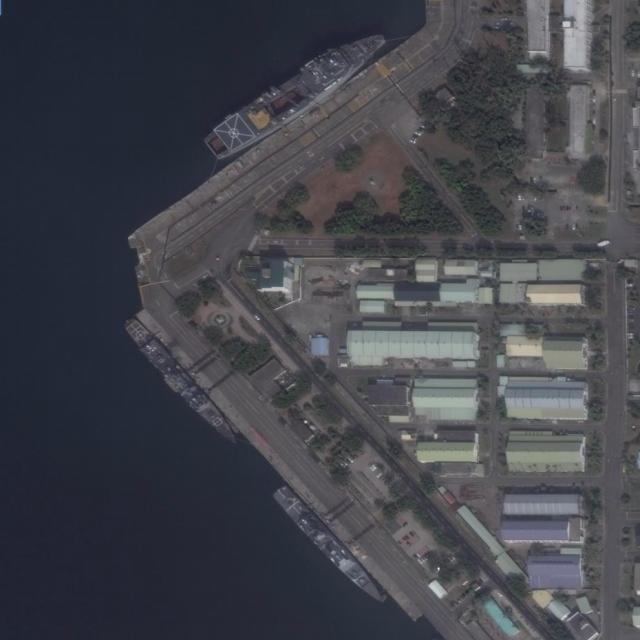Auxiliary Ships: (200, 21, 394, 166)
Frigate: (120, 314, 243, 451)
Other Warship: (268, 481, 390, 610)
